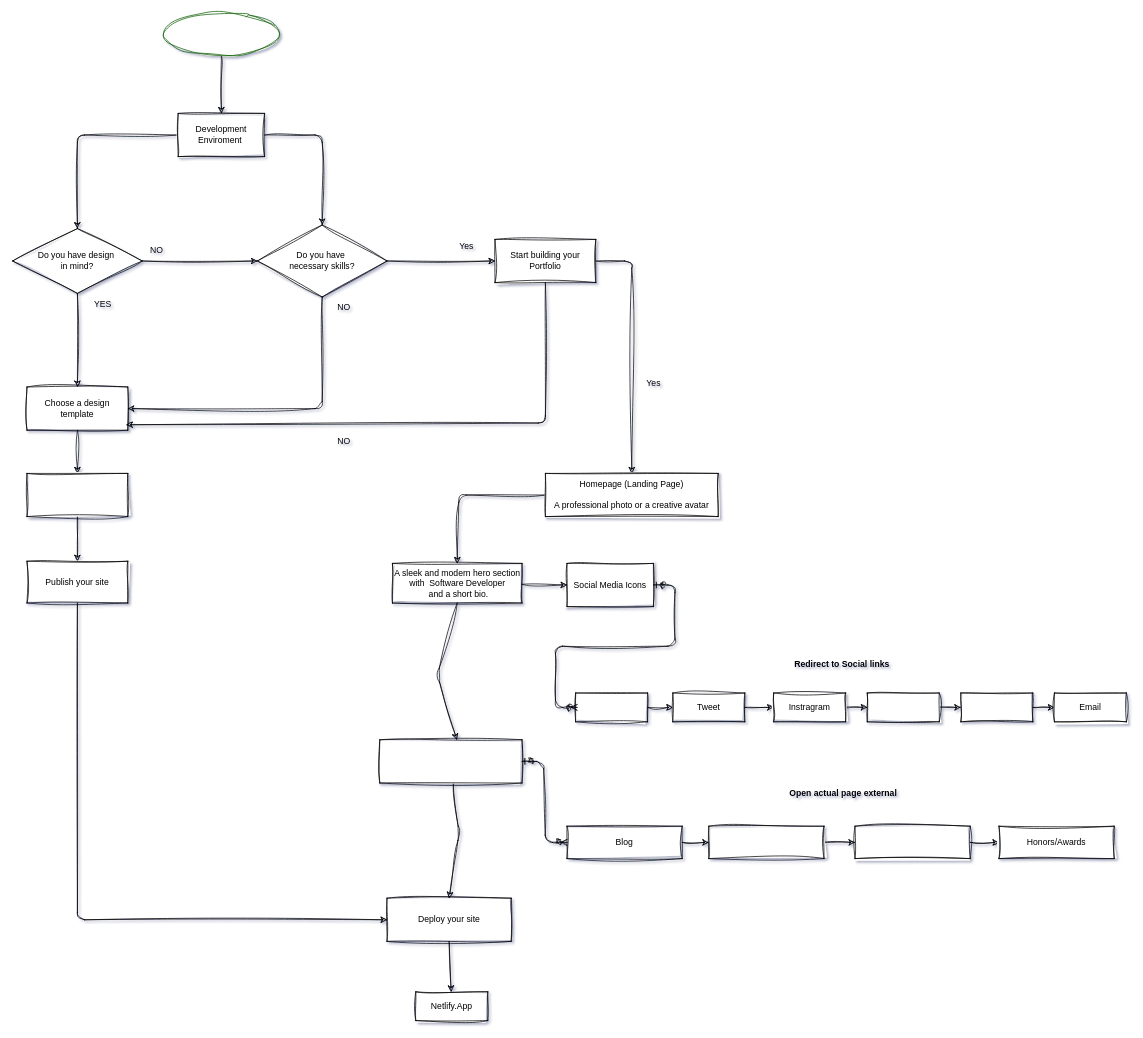
The diagram is 1143 pixels wide and 1038 high, and some of its shapes have lost their labels. The shapes that lost their labels are listed below. From the top down, each one's centre as x and y in pixels, then its label:
At (221,34): "Softaware Developer Portfolio".
At (77,495): "Customize design template".
At (611,707): "Facebook".
At (903,707): "Linkendin".
At (996,707): "Github".
At (450,761): "Menu links (Blog, Project, About, Honors/ Awards)".
At (766,842): "Project".
At (912,842): "About".
